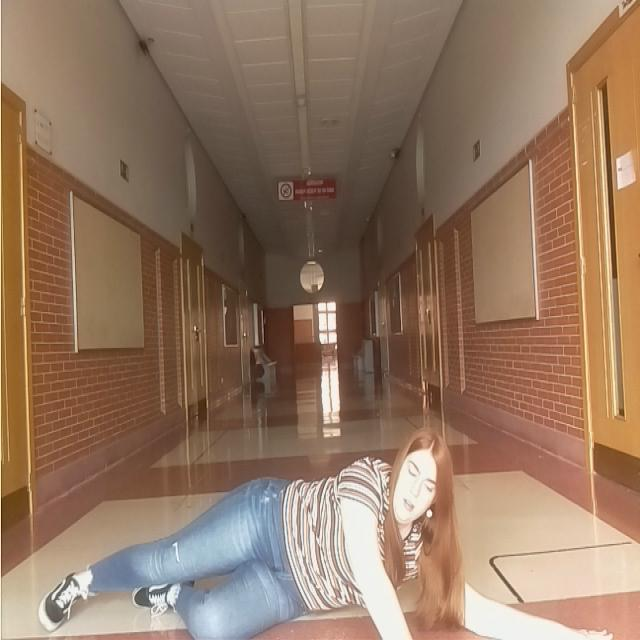Fall-Detected: (26, 397, 491, 640)
